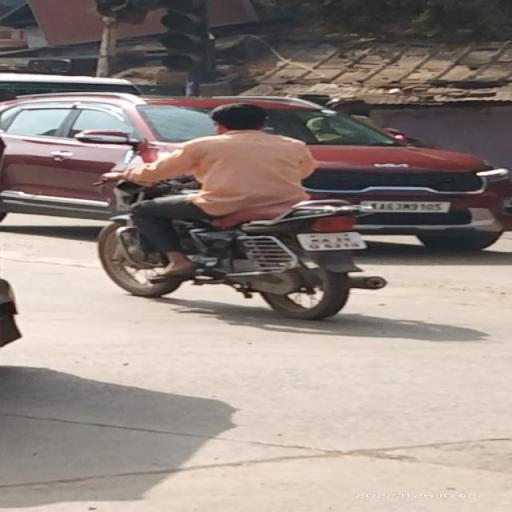bike: (93, 94, 395, 322)
withouthelmet: (214, 102, 266, 130)
